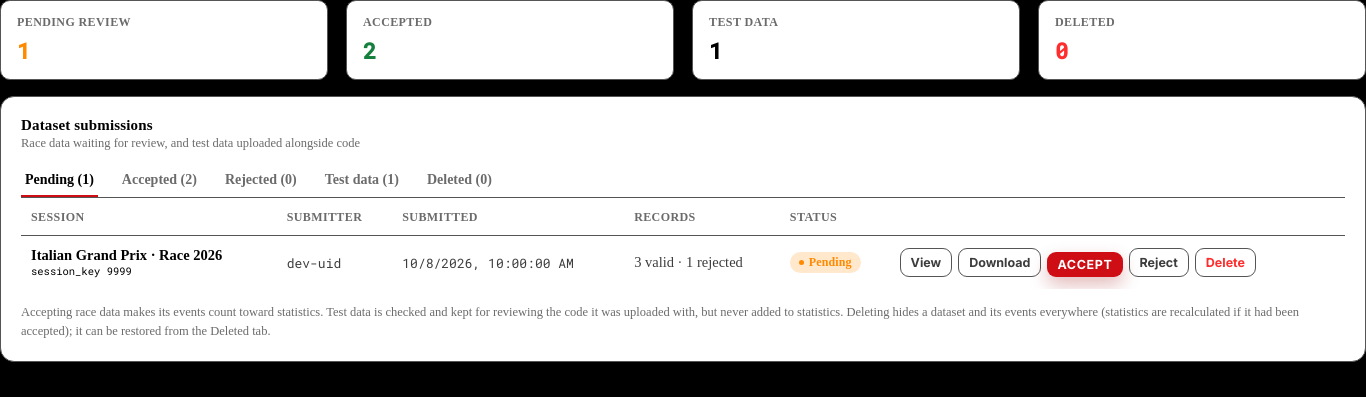
it: DatasetSubmissionsPanel › shows the backend warning when the delete was saved but the recompute failed
Click the button "Delete".
click(1225, 262)  # box [1195,248,1256,277]
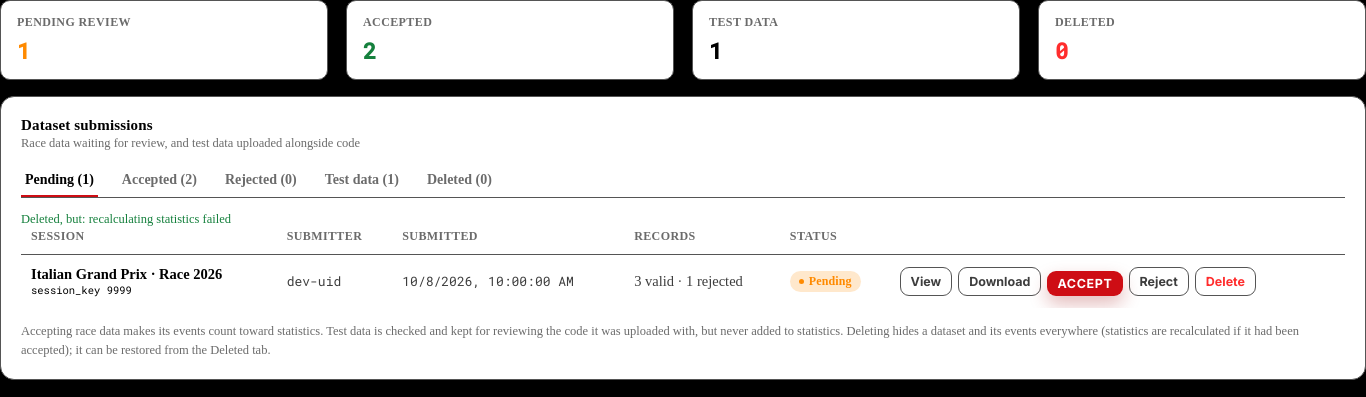
Now the message reads "Deleted, but: recalculating statistics failed", box [21,212,231,226]
